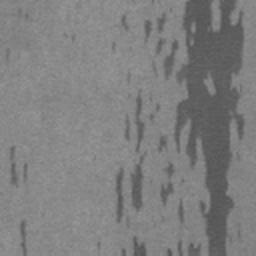Red iron sheet: (143, 0, 246, 256), (114, 88, 147, 221), (9, 146, 28, 186), (120, 234, 147, 255), (160, 163, 174, 202), (19, 220, 28, 256), (178, 198, 184, 224), (120, 17, 128, 31)
